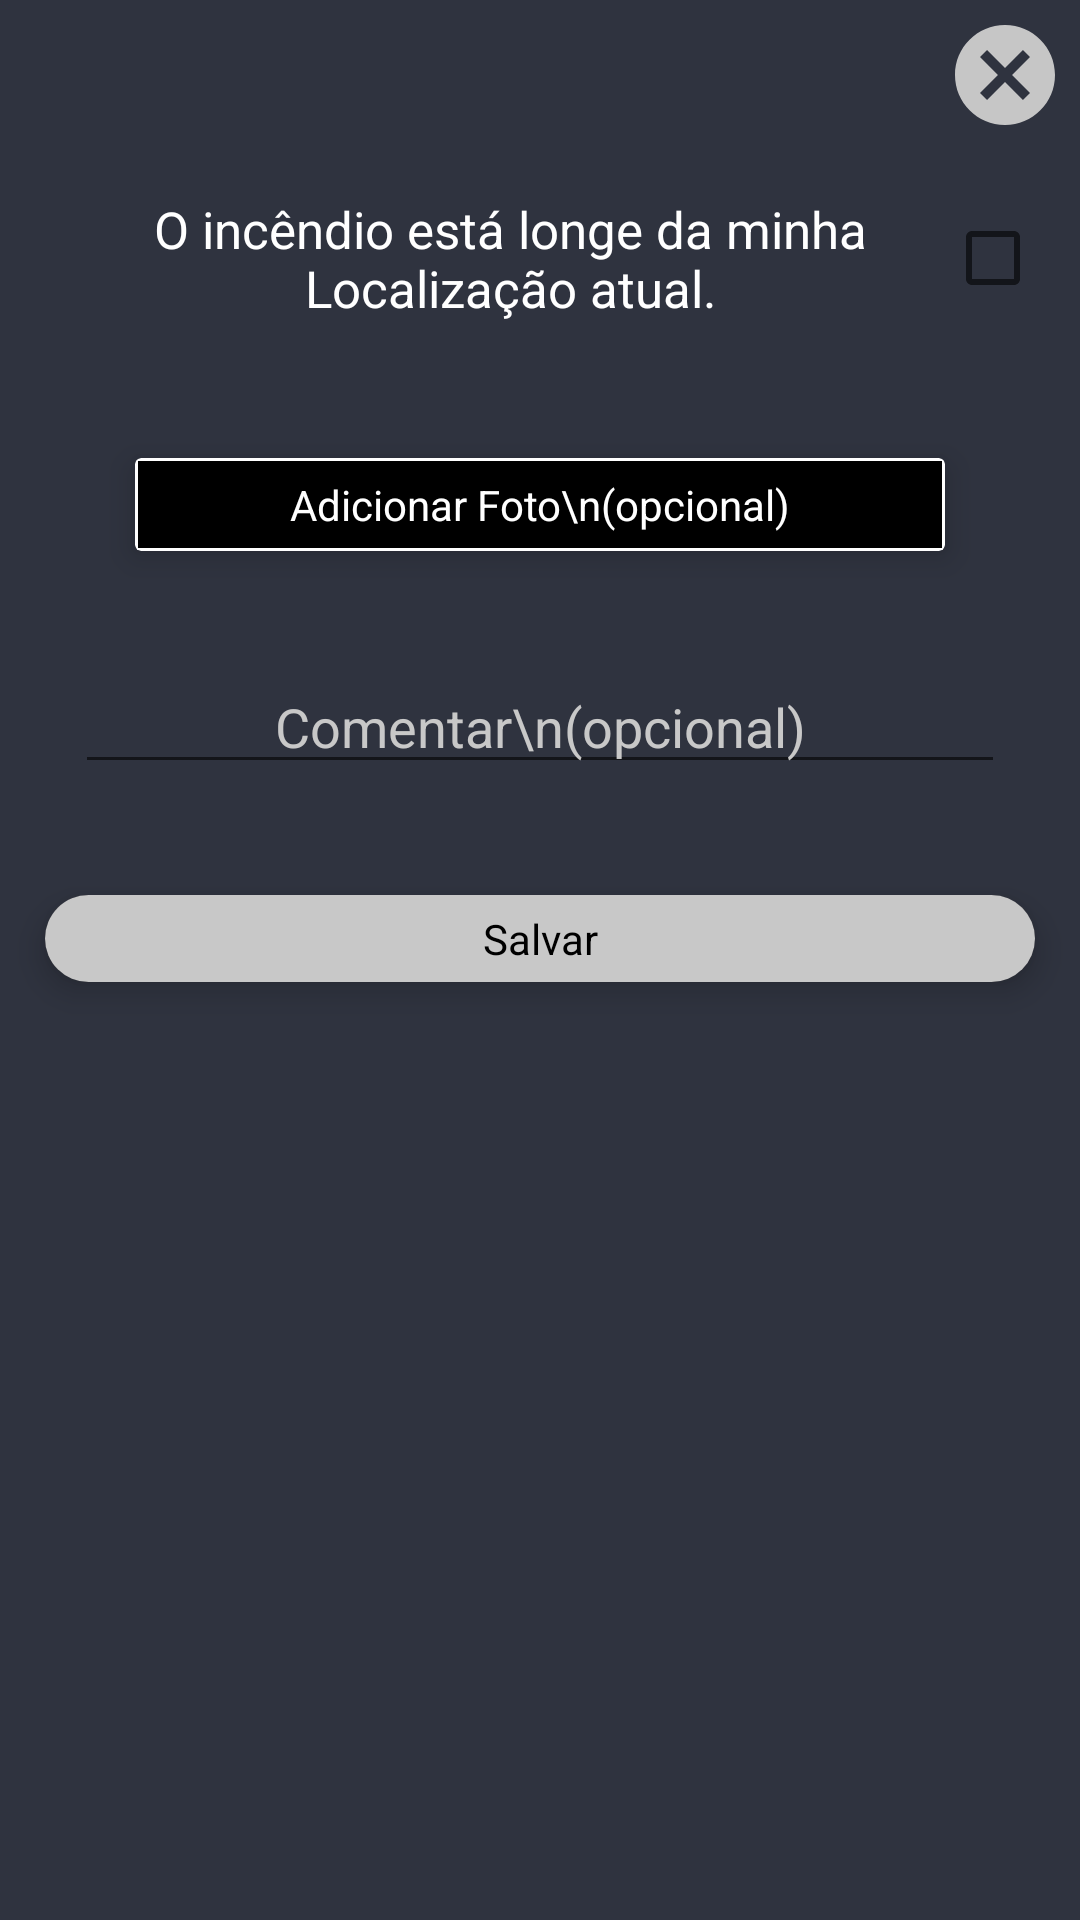

Screen size 1080×1920. Icon name, then its center in pixels as (x=x, y=y):
cancel: (x=1005, y=75)
